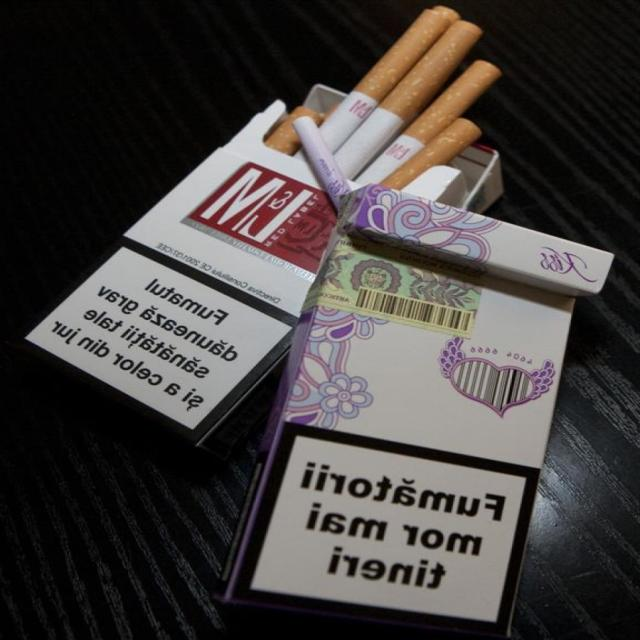lm: (20, 81, 505, 453)
